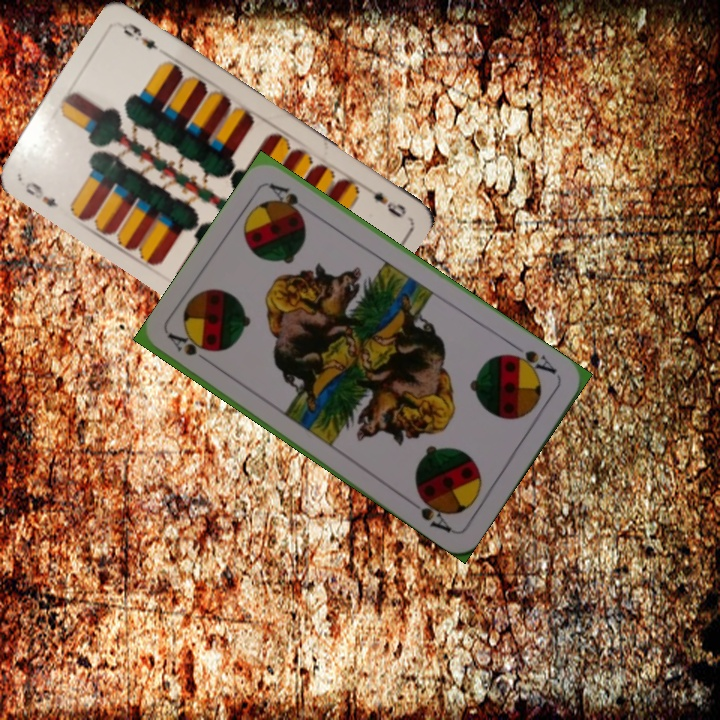E9: (360, 181, 409, 220), (21, 177, 60, 210)
SA: (503, 340, 560, 379), (165, 329, 211, 359)
